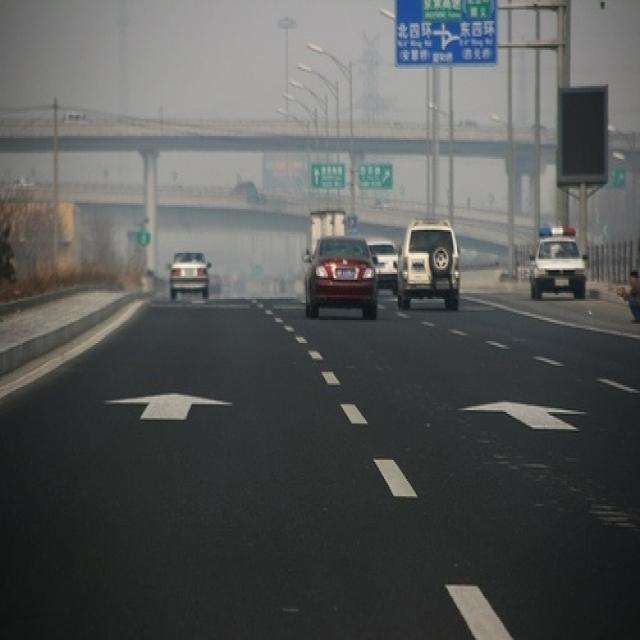Carro Branco: (399, 222, 461, 309), (365, 237, 400, 296)
Carro Prata: (170, 250, 208, 301)
Carro Vermelho: (303, 236, 379, 314)
Viaturas: (531, 224, 588, 306)
